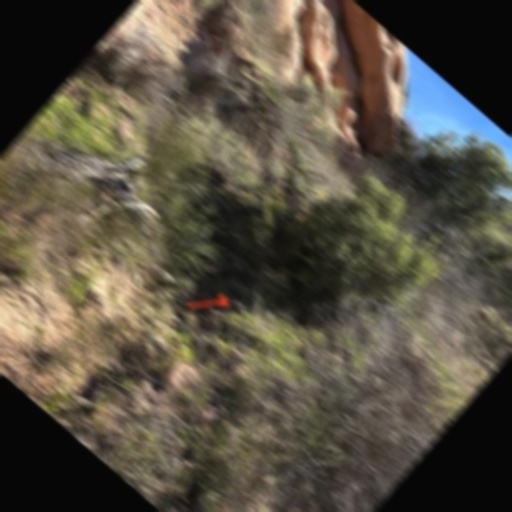mallet: (186, 281, 232, 328)
